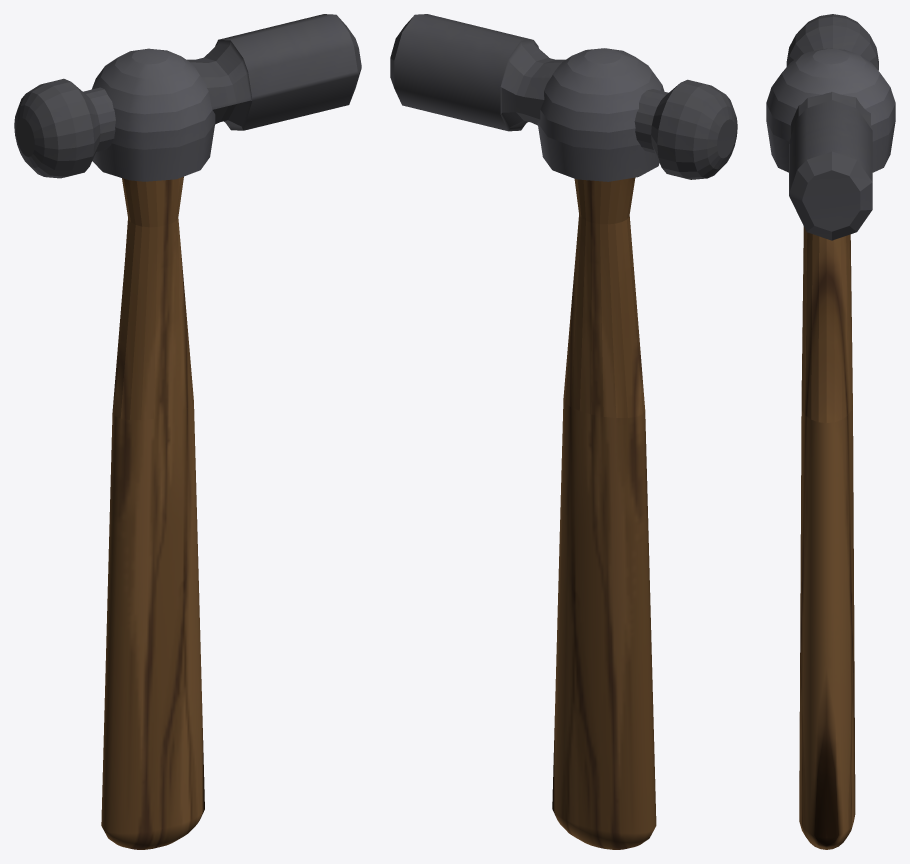
The model's file is Hammer3.fbx.
3 views of the same model, side by side, from view 1: azimuth 30°, elevation 25°; view 2: azimuth 150°, elevation 25°; view 3: azimuth 270°, elevation 25° (orthographic).
Parts seen in each view (by area): view 1: Hammer_6; view 2: Hammer_6; view 3: Hammer_6.
Boxes of the visible parts, x1=… form: Hammer_6: x1=14, y1=14, x2=361, y2=849; Hammer_6: x1=390, y1=14, x2=737, y2=849; Hammer_6: x1=766, y1=14, x2=895, y2=849.
Size of the model in its own units: 16.02 by 37.71 by 5.62.
1 material, 1 textured.
